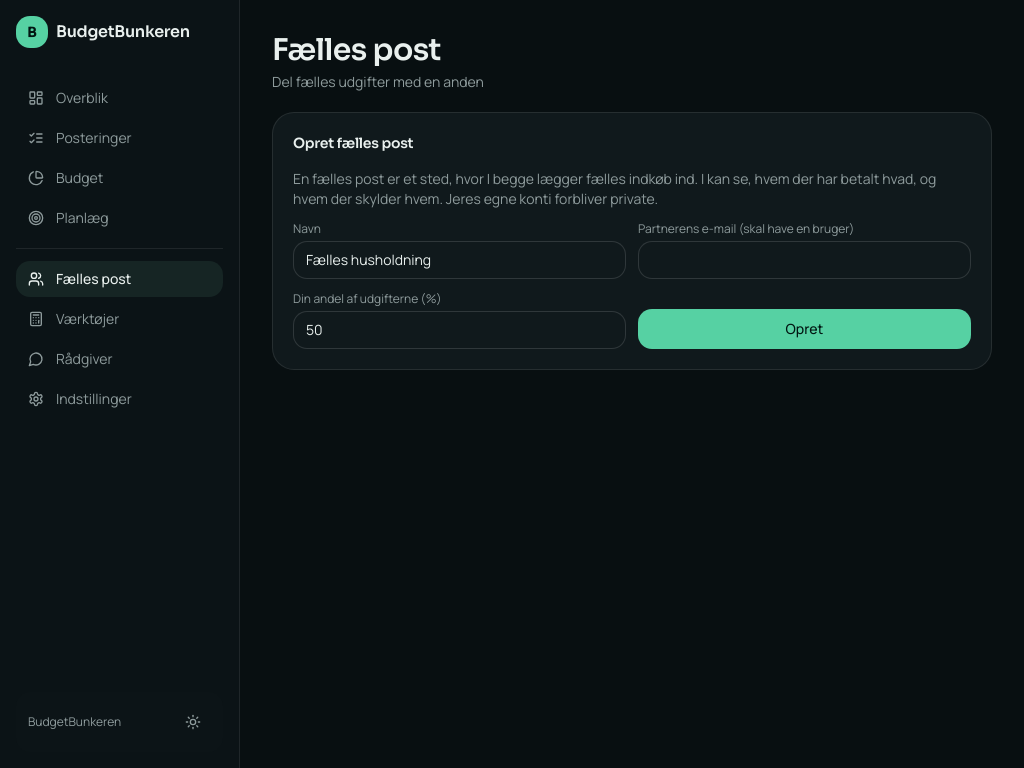
Ny app – resten › Fælles post: opret og se balancen
In the field labelled "Partnerens e-mail (skal have en bruger)": coordinates (804, 260) [638,241,971,279], type "p@example.com"
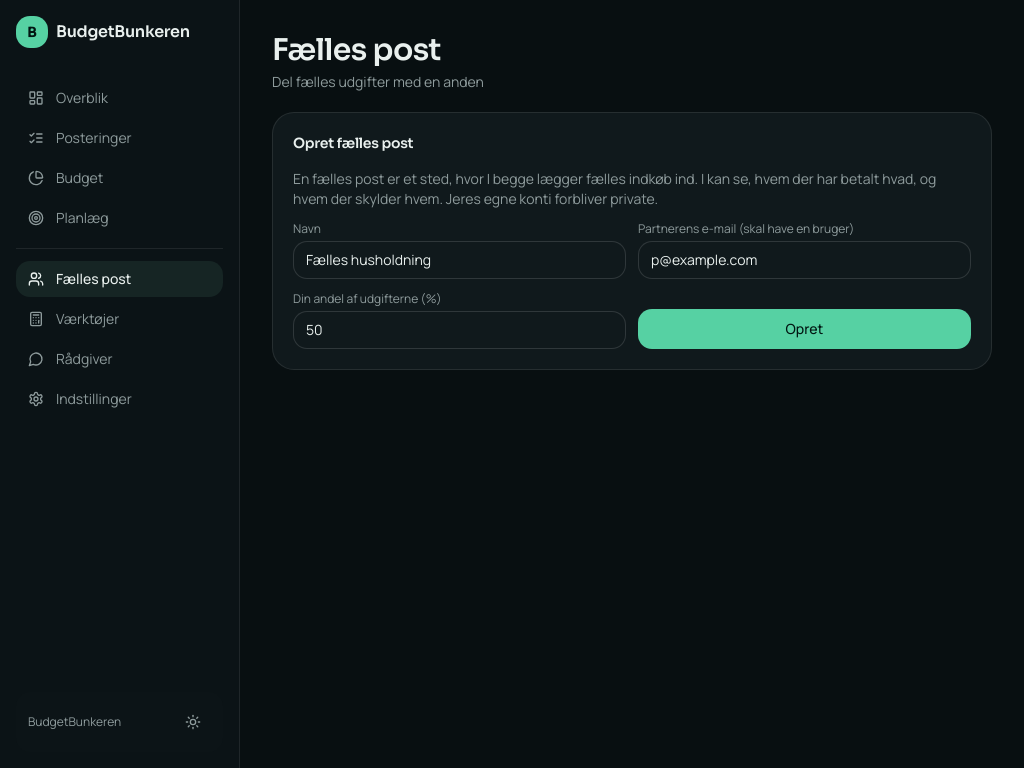
Click the button "Opret": coordinates (804, 329) [638,309,971,349]
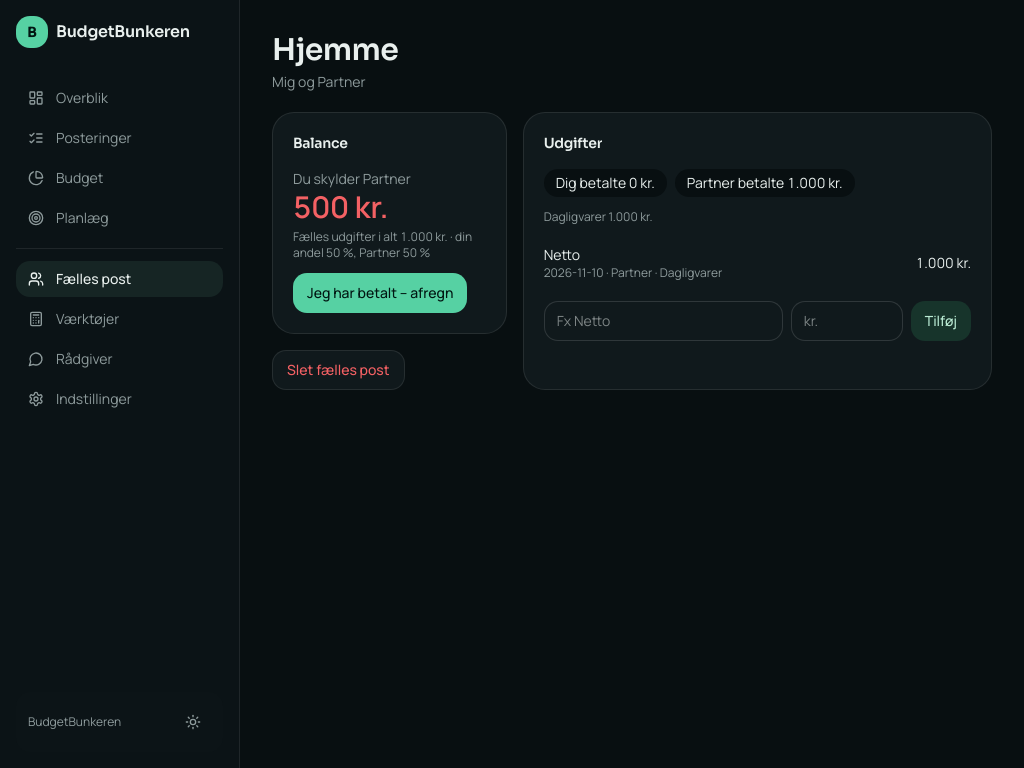
Expected: the text "Du skylder Partner" is shown, [293,169,411,188]
Expected: the text "500 kr." is shown, [293,186,388,227]
